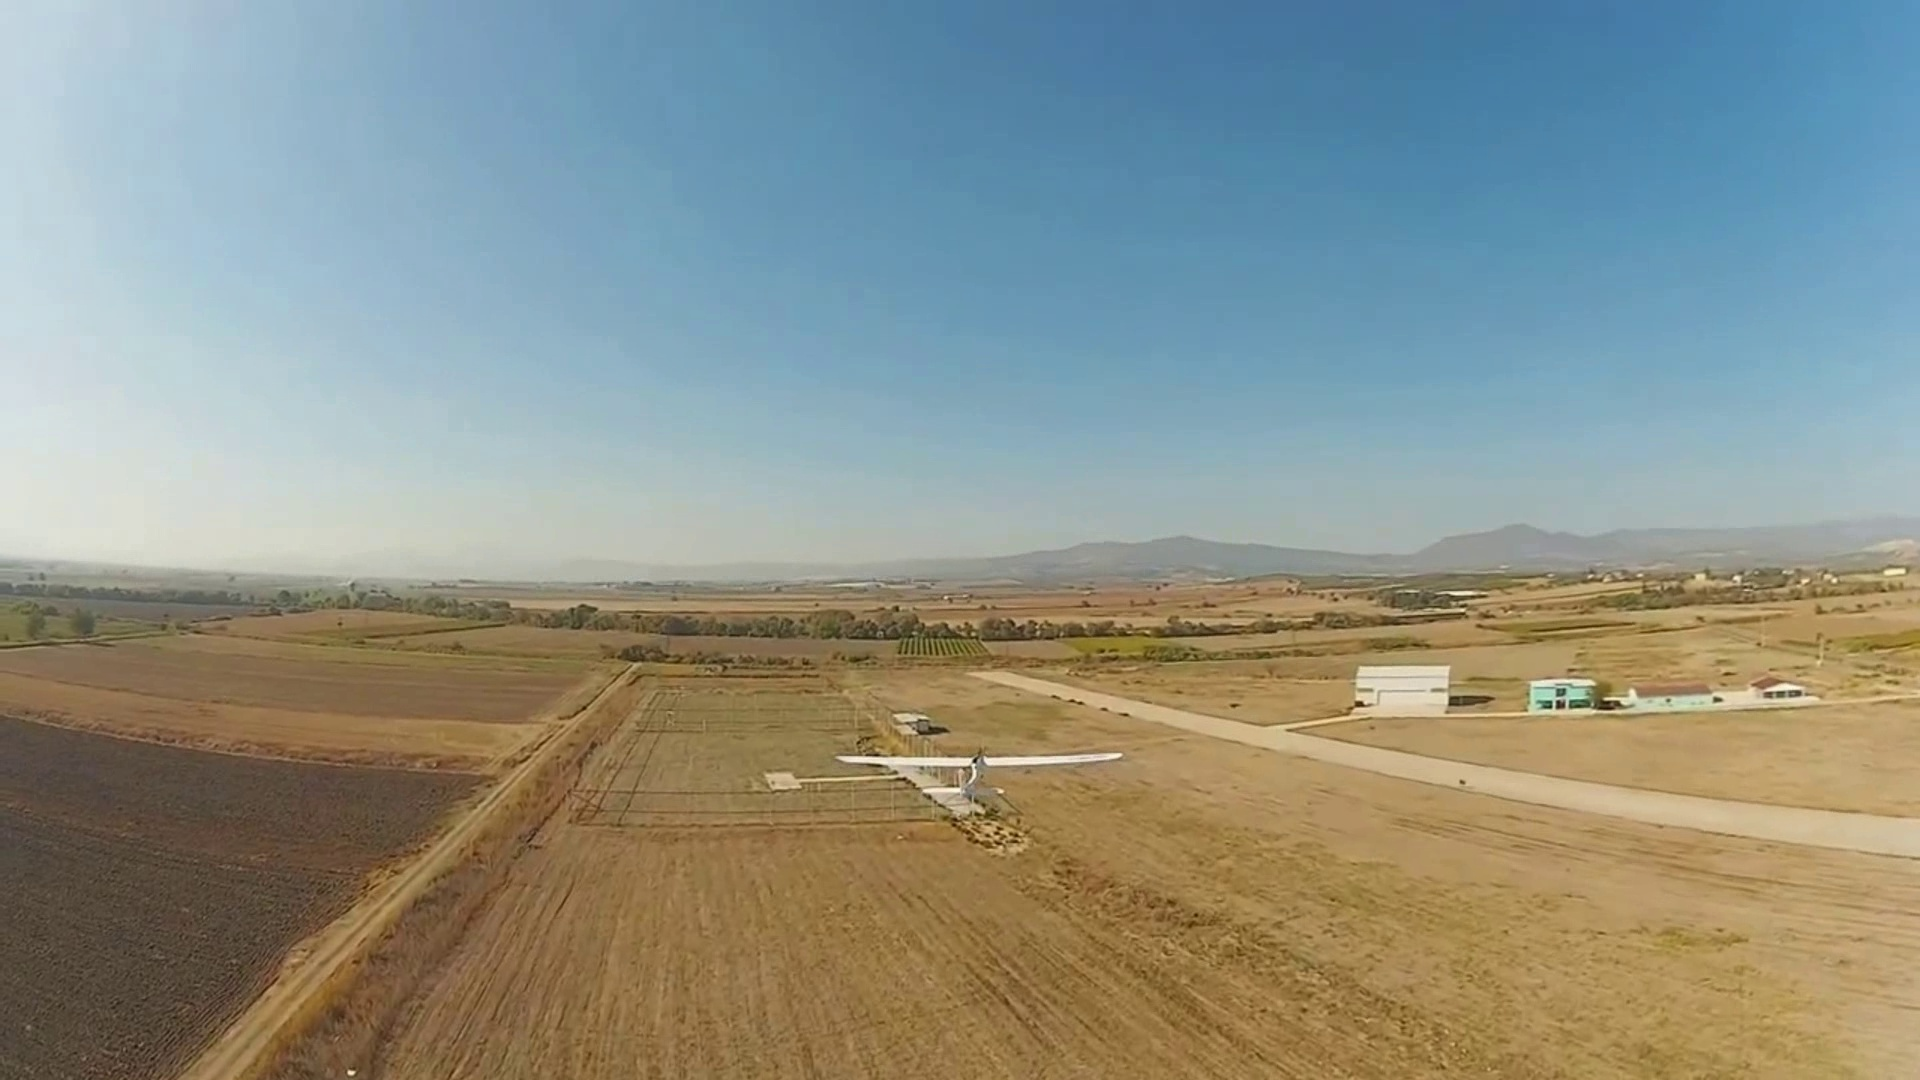airplane: (836, 723, 1129, 819)
